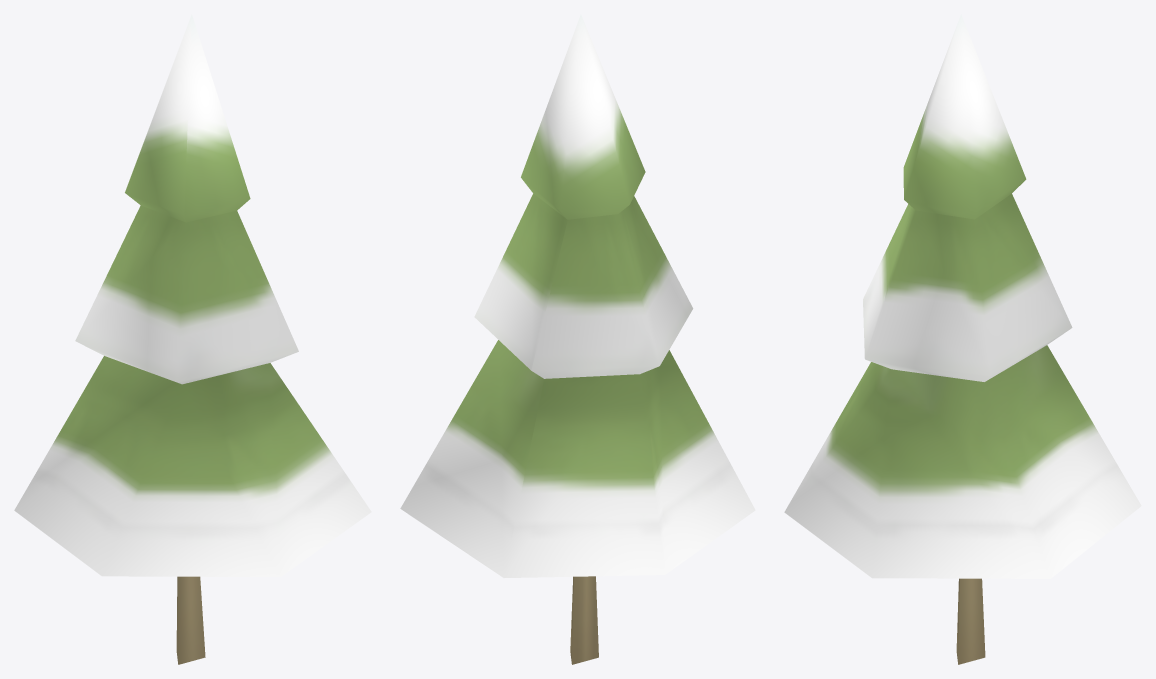
3 views of the same model, side by side, from view 1: azimuth 30°, elevation 25°; view 2: azimuth 150°, elevation 25°; view 3: azimuth 270°, elevation 25° (orthographic).
Visible parts, largest first — view 1: wLODPine.001; view 2: wLODPine.001; view 3: wLODPine.001.
Part boxes in pixels (x1,y1,x2,y2): wLODPine.001: (14,14,371,664); wLODPine.001: (400,14,755,664); wLODPine.001: (784,14,1141,664).
Size of the model in its own units: 8.69 by 19.86 by 9.97.
Materials: 1 (1 with a texture image).
